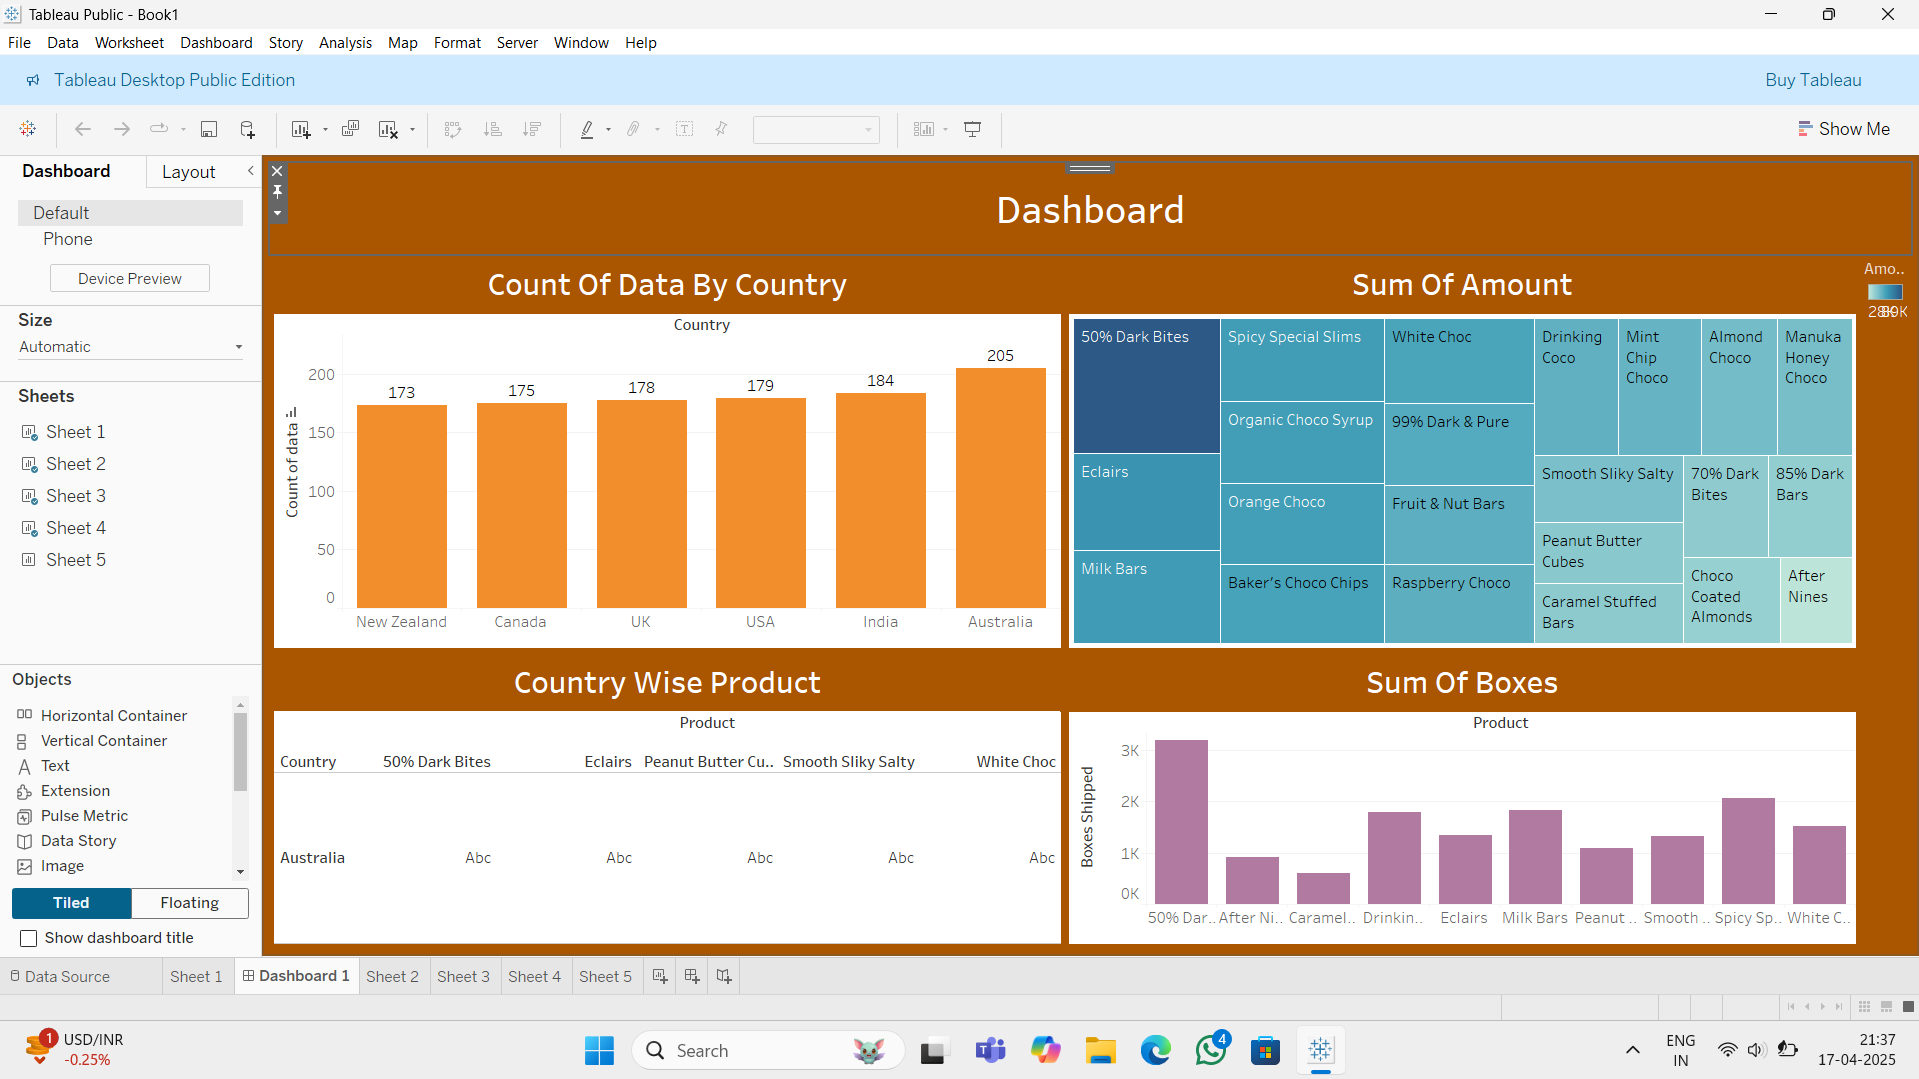

This screenshot's page, from the dashboard's own definition file:
{"tool":"tableau","page":{"name":"Dashboard 1","canvas":[1000,1000],"units":"permille","ordinal":0},"visuals":[{"type":"title","box":[4.8,10,990.3,113.6]},{"type":"worksheet","title":"Sheet 1","mark":"Automatic","rows":["data_D439B248673C463E8410C65B869273C7"],"cols":["Country"],"box":[4.8,123.6,479.7,496.9]},{"type":"worksheet","title":"Sheet 3","mark":"Automatic","box":[484.5,123.6,479.9,496.9]},{"type":"legend","title":"Sheet 3","param":"[federated.1n5wi2n1cy8mqm14ggky404zox0g].[sum:Amount:qk]","box":[964.4,123.6,30.8,91.1]},{"type":"worksheet","title":"Sheet 4","mark":"Automatic","rows":["Country"],"cols":["Product"],"box":[4.8,620.5,479.7,369.6]},{"type":"worksheet","title":"Sheet 2","mark":"Automatic","rows":["Boxes Shipped"],"cols":["Product"],"box":[484.6,620.5,479.8,369.6]}]}

Visuals, with their boxes on the dashboard's canvas, which has no fixed pixel size, in thousandths of its width and height (x1, y1, x2, y2). These are canvas units, not pixel positions in the 1919x1079 screenshot, which may show the page scaled, cropped or inside an application window:
title: 5, 10, 995, 124
"Sheet 1" worksheet: 5, 124, 484, 620
"Sheet 3" worksheet: 484, 124, 964, 620
"Sheet 3" legend: 964, 124, 995, 215
"Sheet 4" worksheet: 5, 620, 484, 990
"Sheet 2" worksheet: 485, 620, 964, 990
